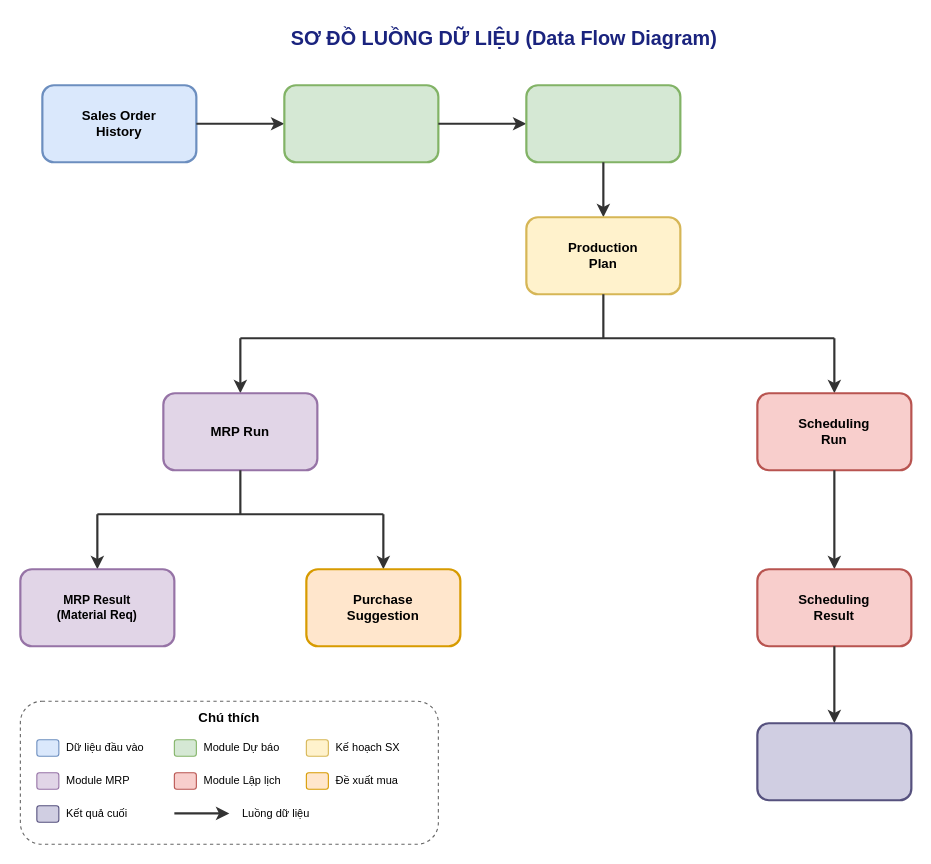
Image size: 931x864. Some labels were removed from this diagram. Here are the shapes that lost their labels. From the top down, the box of each, then its label:
(283, 84, 439, 163): Forecast Run
(525, 84, 681, 163): Forecast Result
(756, 722, 912, 801): Job Card (Updated)
